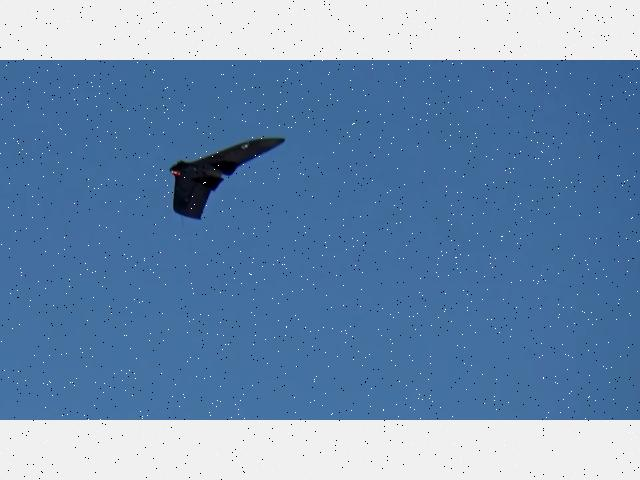Anti-Drone: (158, 127, 286, 229)
